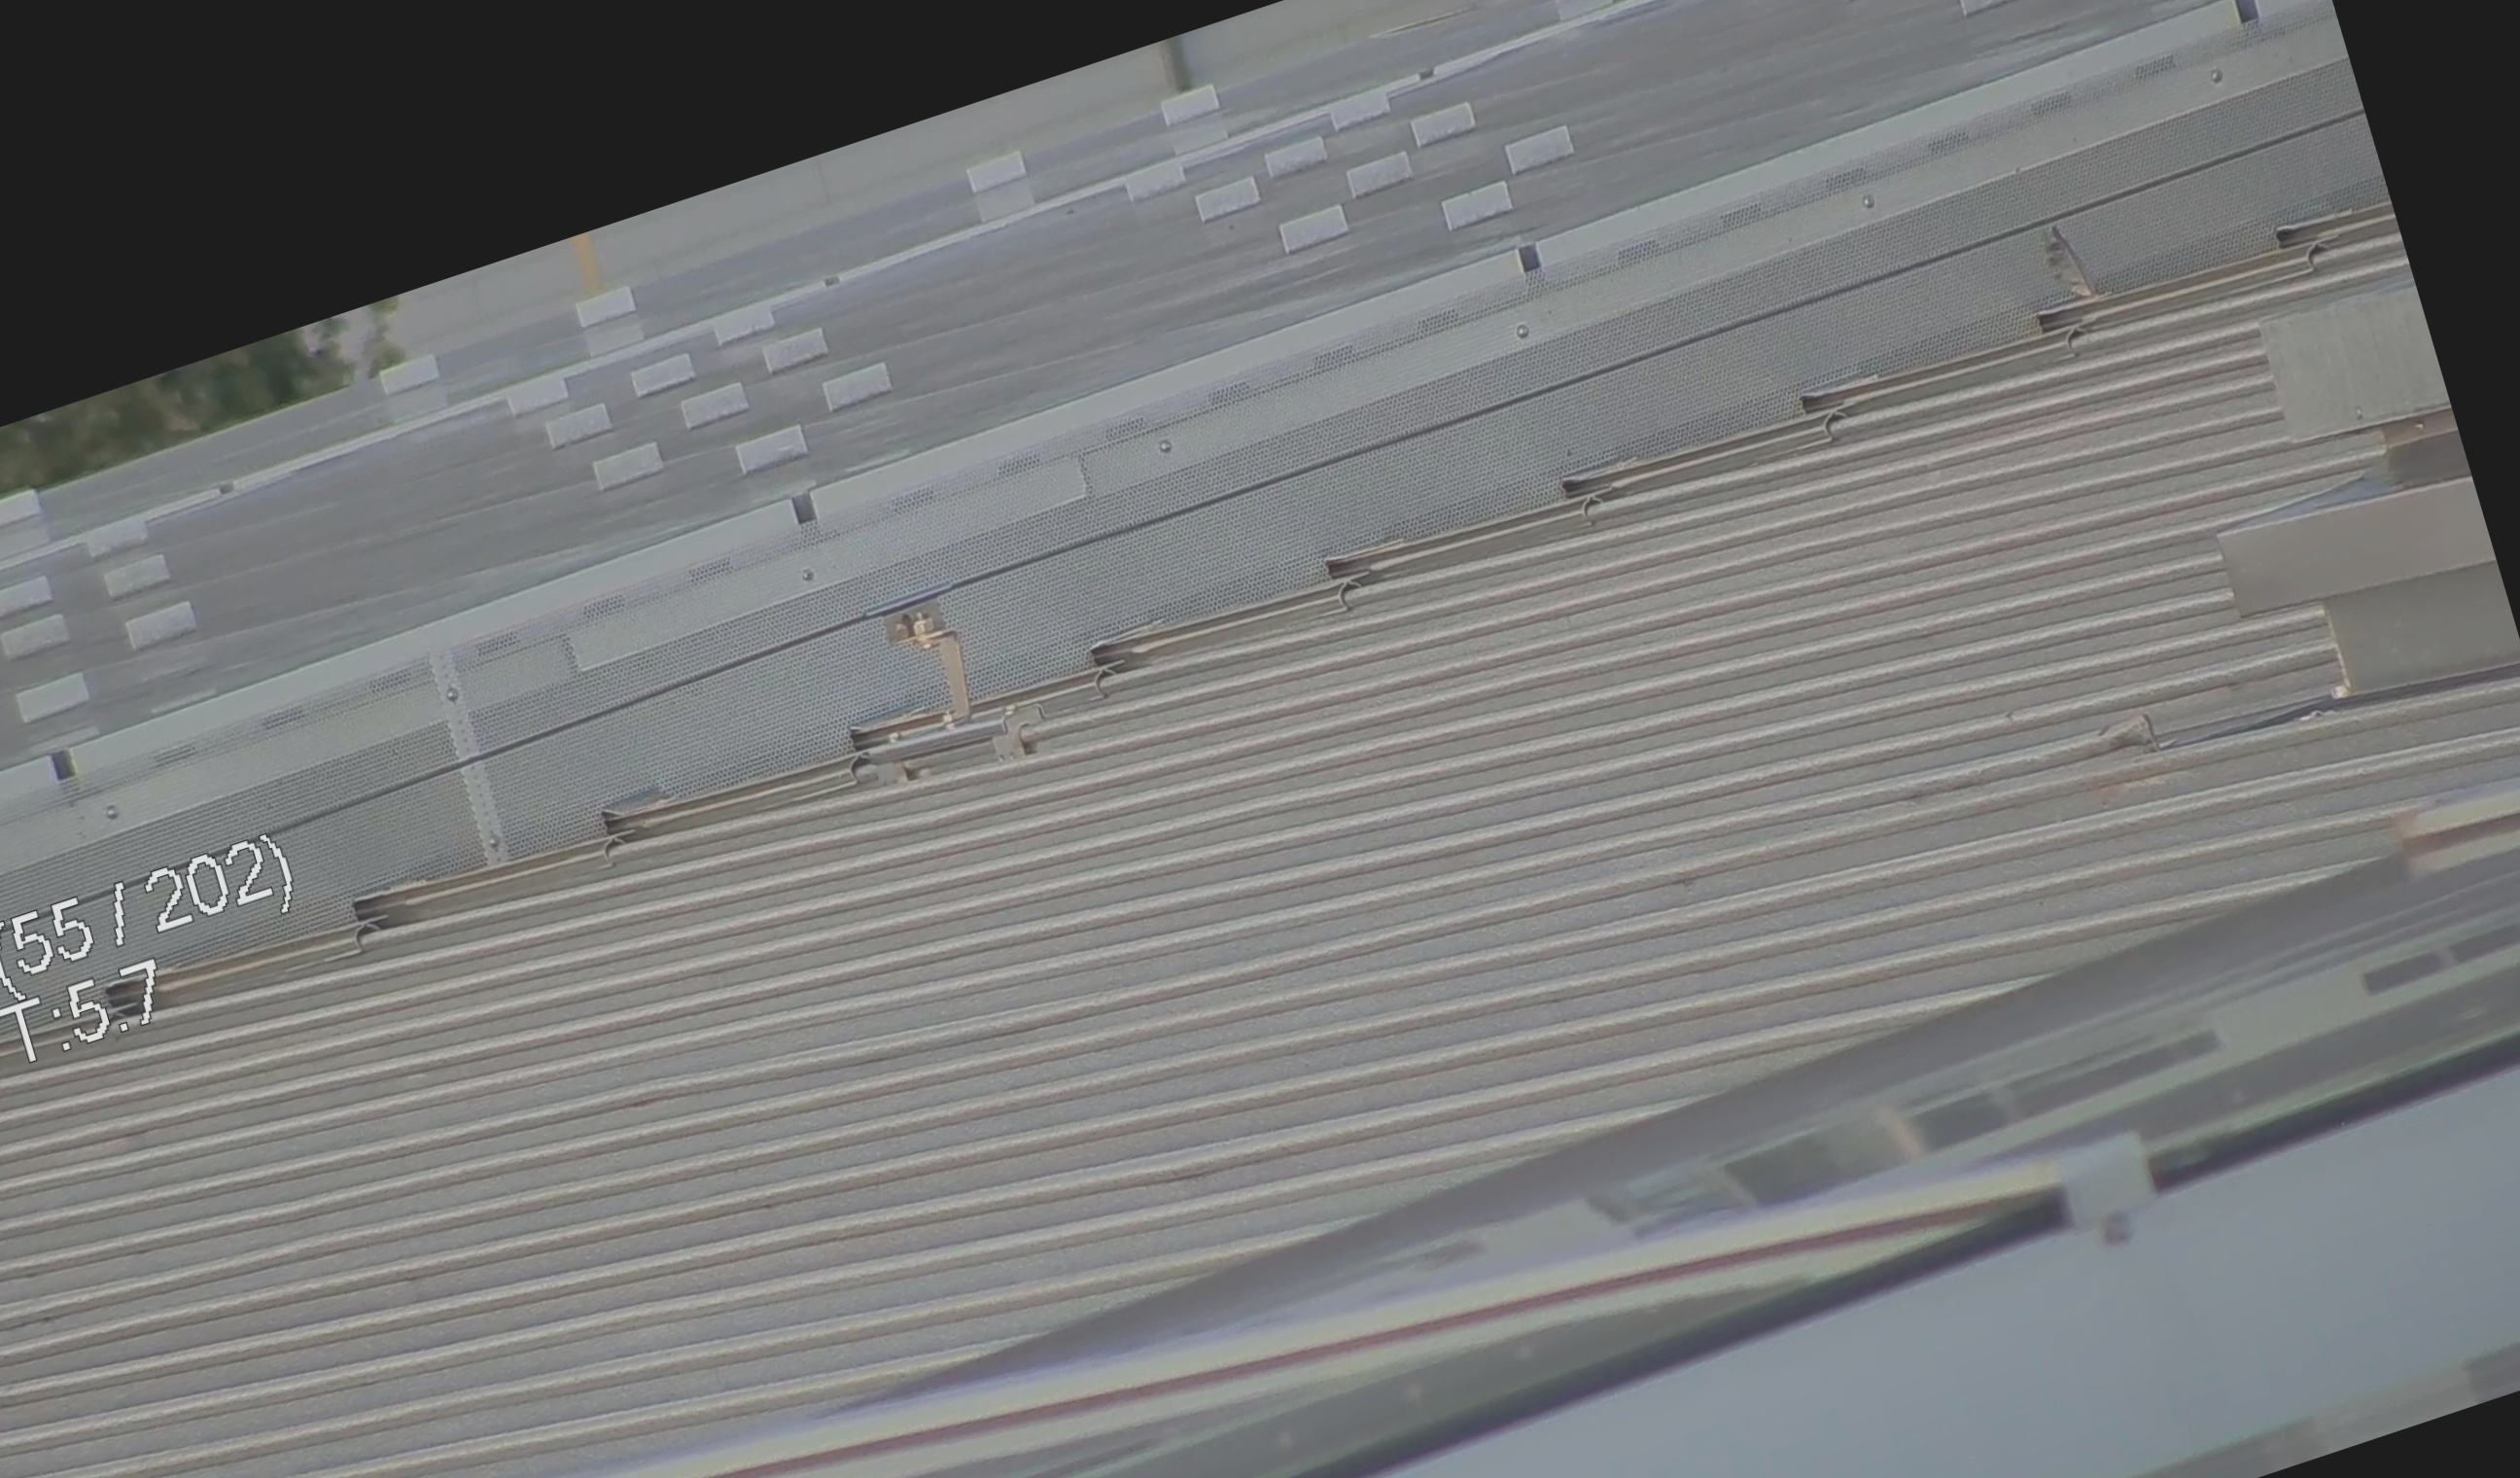Other: (2022, 190, 2126, 338)
